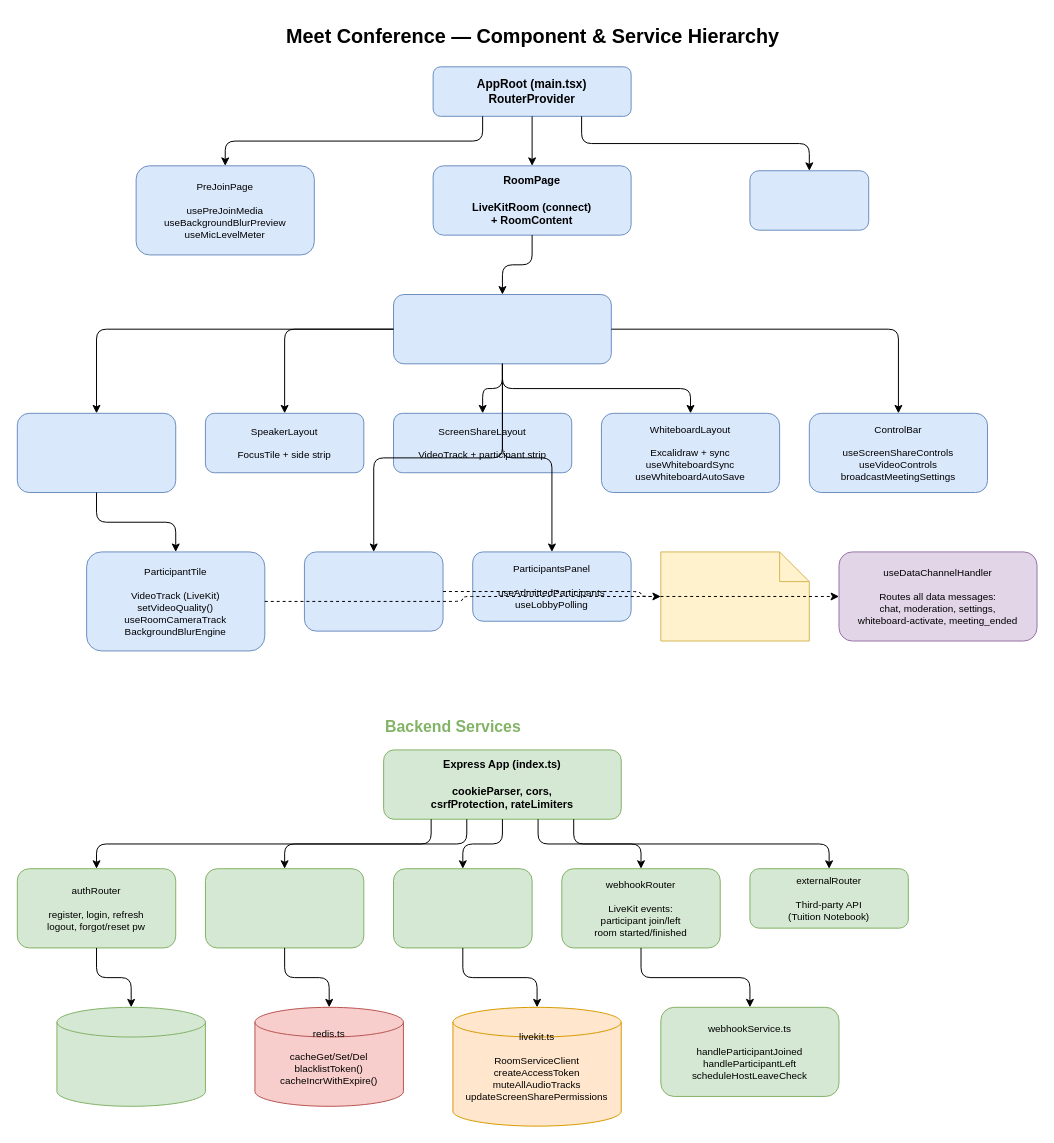
This 1054x1143 diagram has some shape labels left out. The shapes that lost their labels are listed below. From the top down, each one's centre as x and y in pixels, then its label:
point 809,200: HomePage LoginPage SchedulePage
point 502,329: ConferenceRoom Layout switching, tracks, quality monitoring
point 96,452: GridLayout getGridDimensions() ParticipantTile
point 373,591: ChatPanel publishMessage() DataChannel sendMessage
point 734,596: Zustand Stores authStore (persisted) roomStore (707 lines) pipStore
point 284,908: tokenRouter POST /token POST /token/guest createAccessToken
point 462,908: roomsRouter CRUD + join/leave kick, mute, lobby
point 130,1056: database.ts pg Pool (20 max) query(), queryOne() withTransaction()
